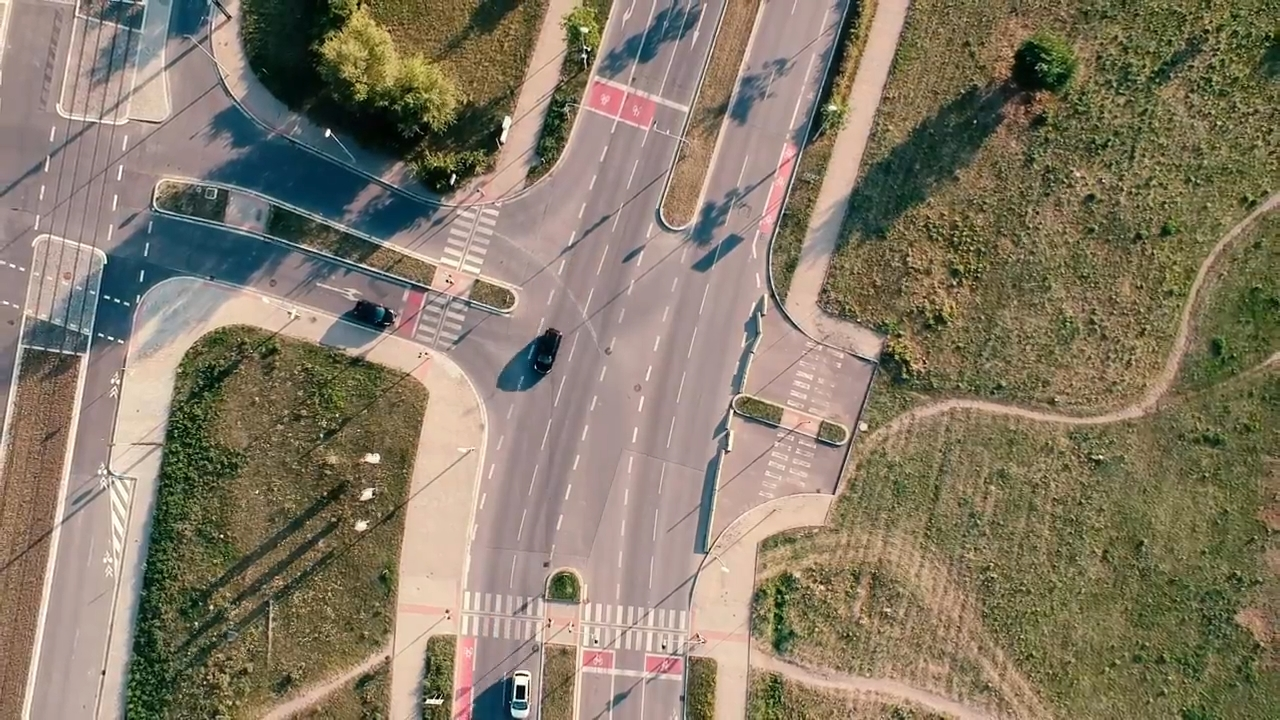car: (534, 326, 562, 376), (356, 297, 395, 327), (509, 668, 531, 717)
